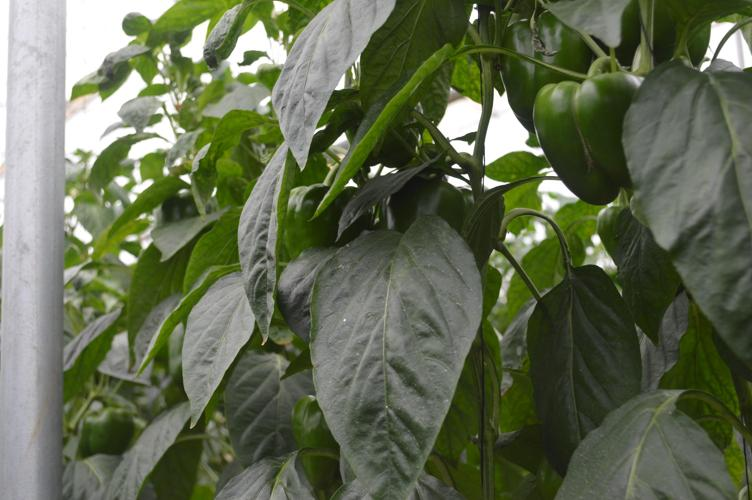BellPepper: (531, 69, 640, 206), (383, 181, 510, 263), (501, 11, 588, 129), (277, 180, 376, 254), (288, 394, 339, 485), (73, 406, 136, 453)
